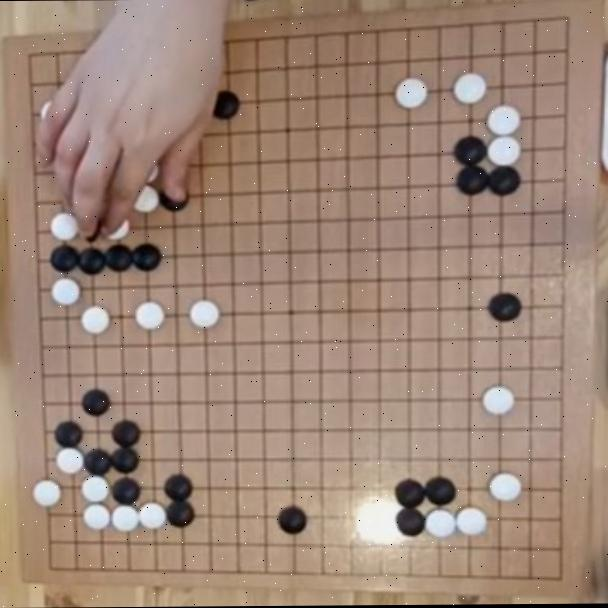corners: (534, 558, 584, 596), (542, 4, 594, 40), (8, 39, 50, 77), (26, 552, 74, 585)
